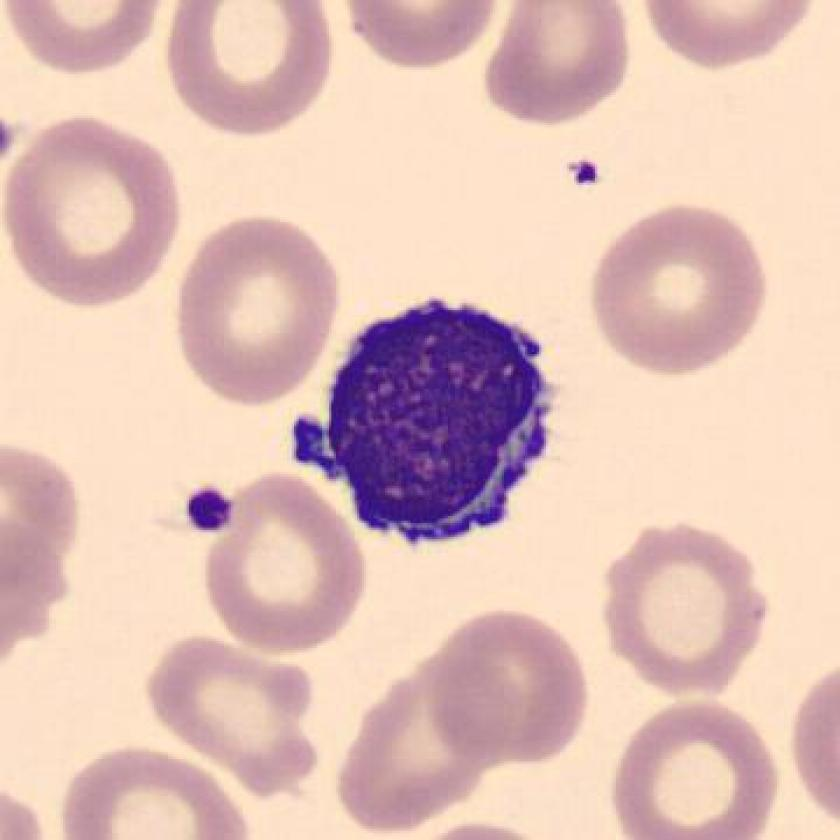lymphocyte: (288, 283, 587, 568)
